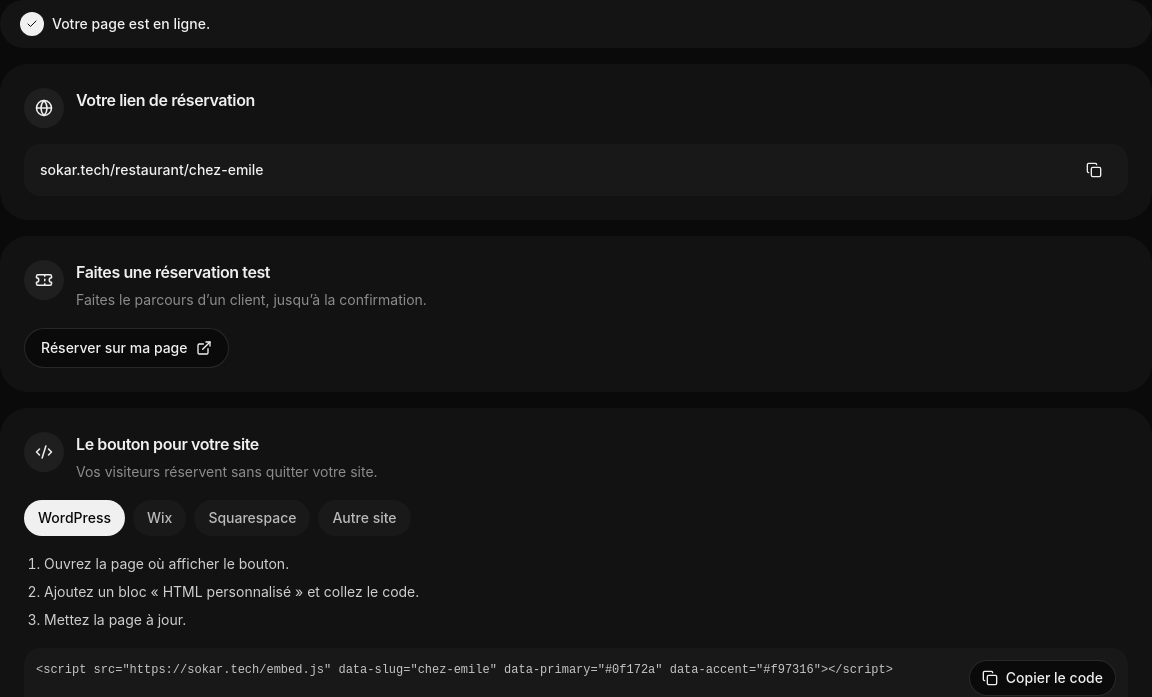
Test: lance la réservation test par l’API et montre l’erreur sans ouvrir de page
Click the button "Réserver sur ma page". click: [126, 348]
box: [24,328,228,368]
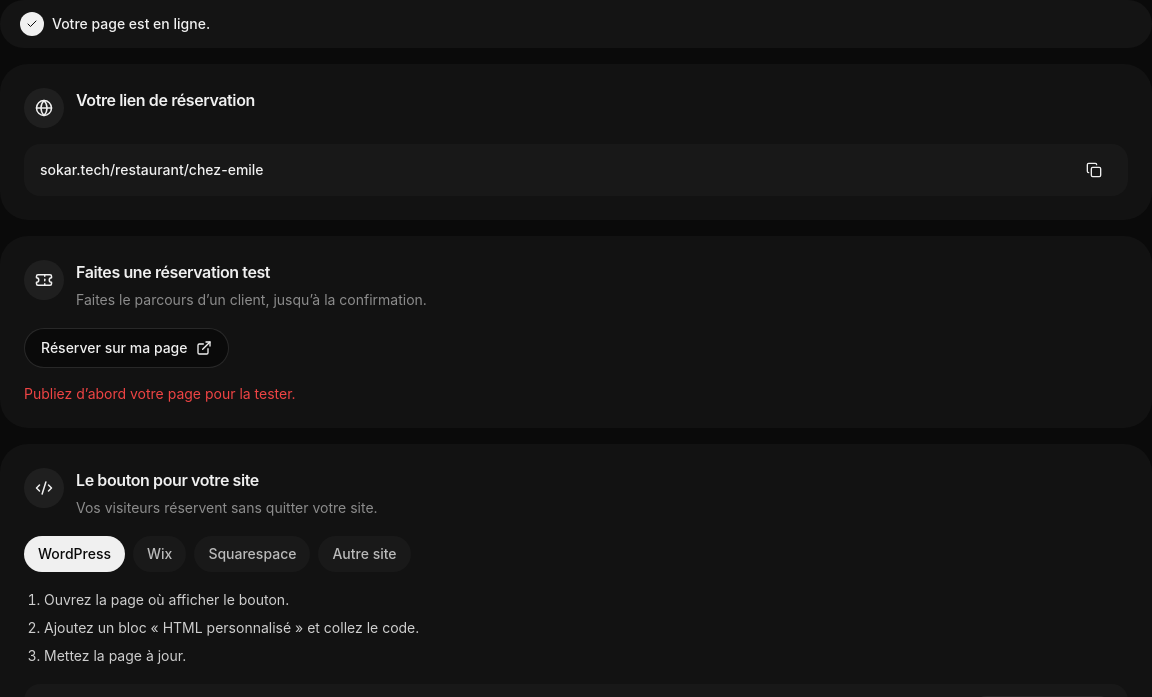
Expected: the message "Publiez d’abord votre page pour la tester." is shown, [24,385,296,402]
